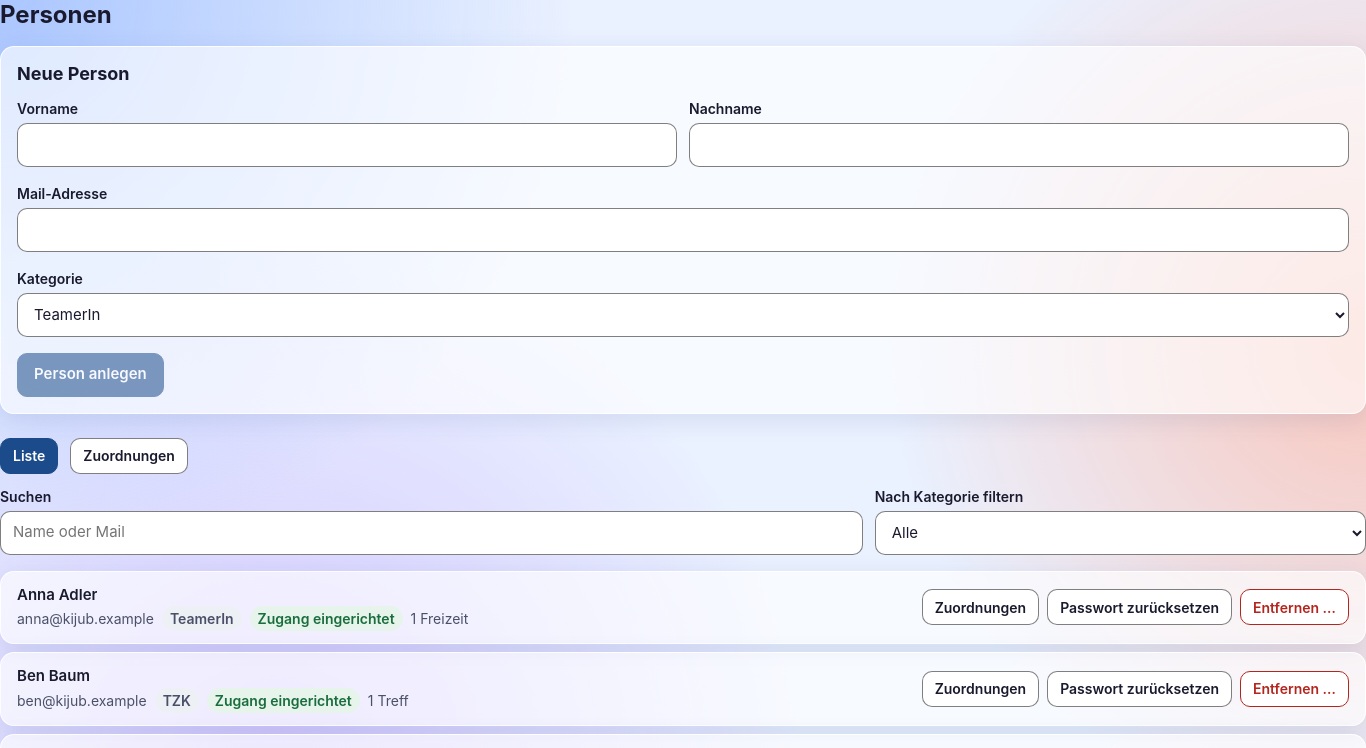
it: Personen: Listenansicht › Kategorie-Filter und Suche
The width and height of the screenshot is (1366, 748).
Expected: the text "Anna Adler" is shown, [17,584,98,606]
Select "TZK" in the dropdown labelled "Nach Kategorie filtern" at (1120, 532), box [875,510,1365,554]
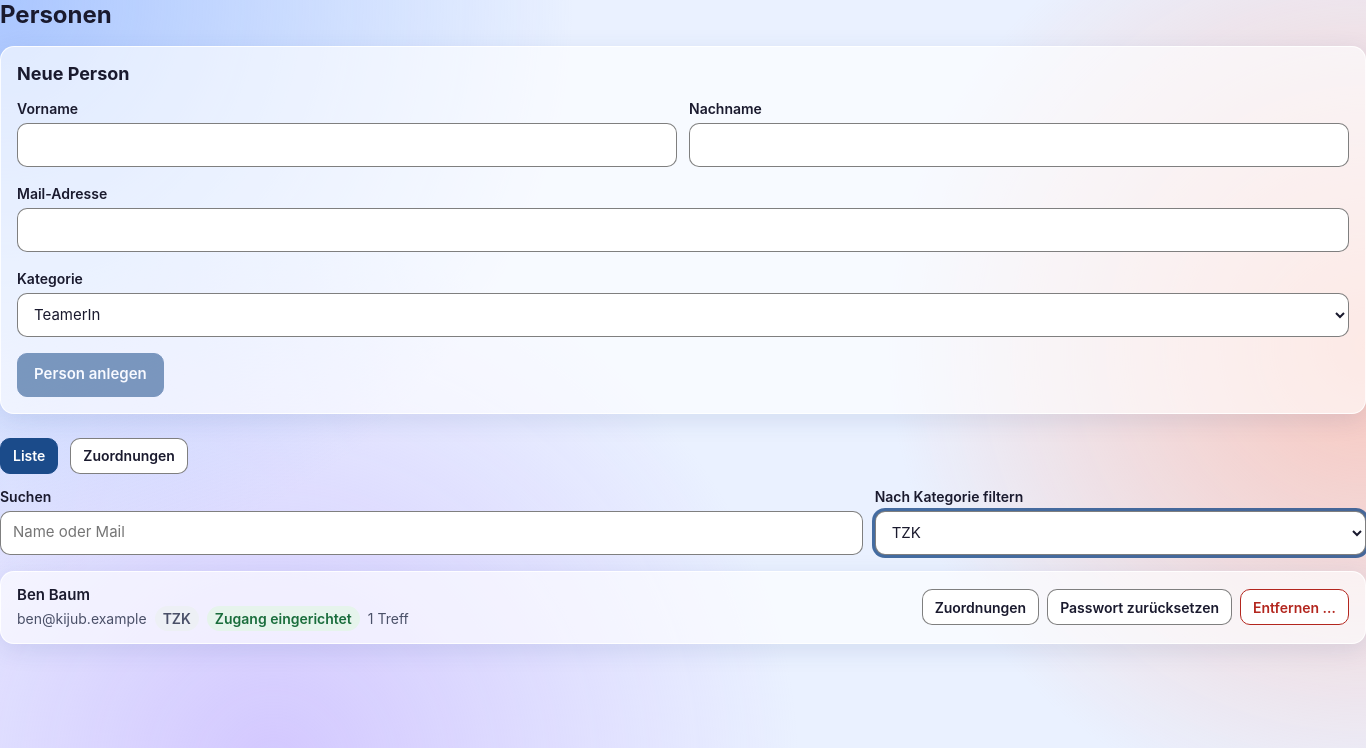
Expected: the text "Ben Baum" is shown, [17,584,90,606]
Now the text "Anna Adler" is gone
Select "Alle" in the dropdown labelled "Nach Kategorie filtern" at (1120, 532), box [875,510,1365,554]
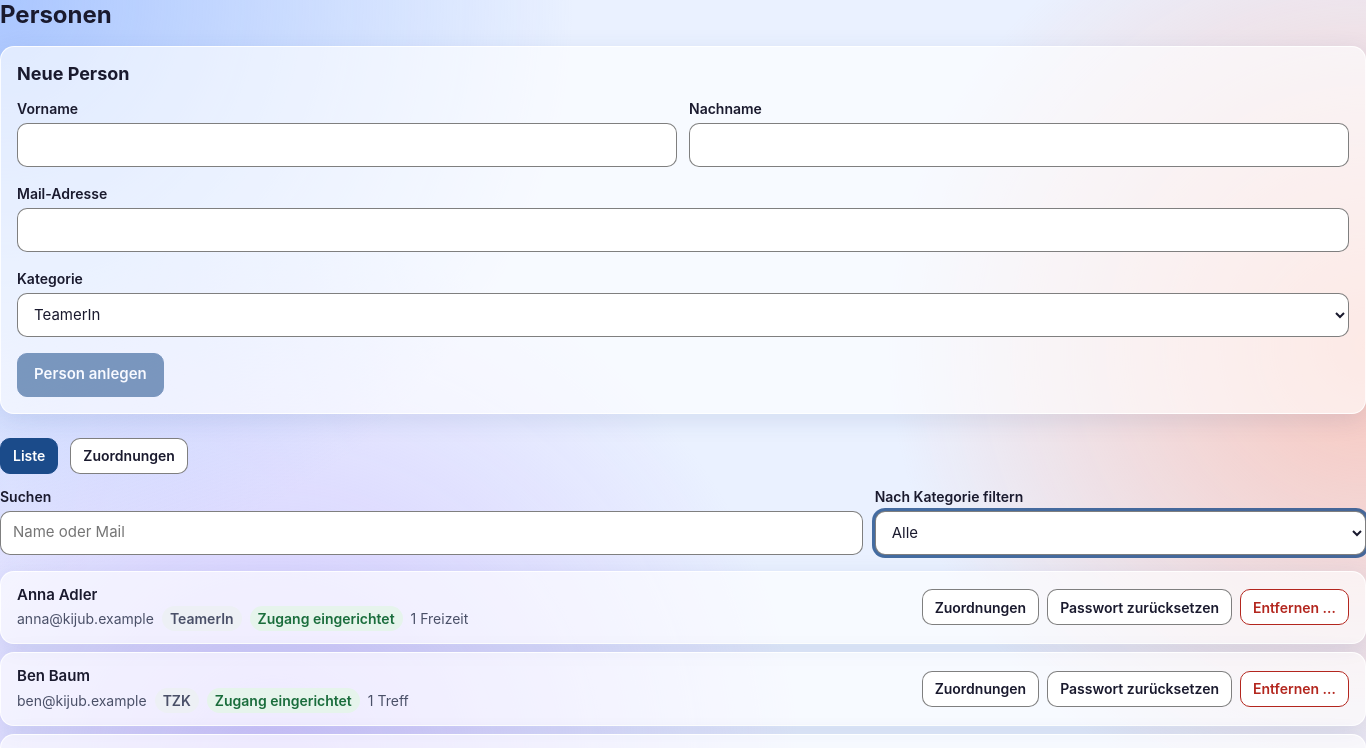
Type "carl" into the search field labelled "Suchen".
click(431, 532); type("carl")  # box [0,510,863,554]
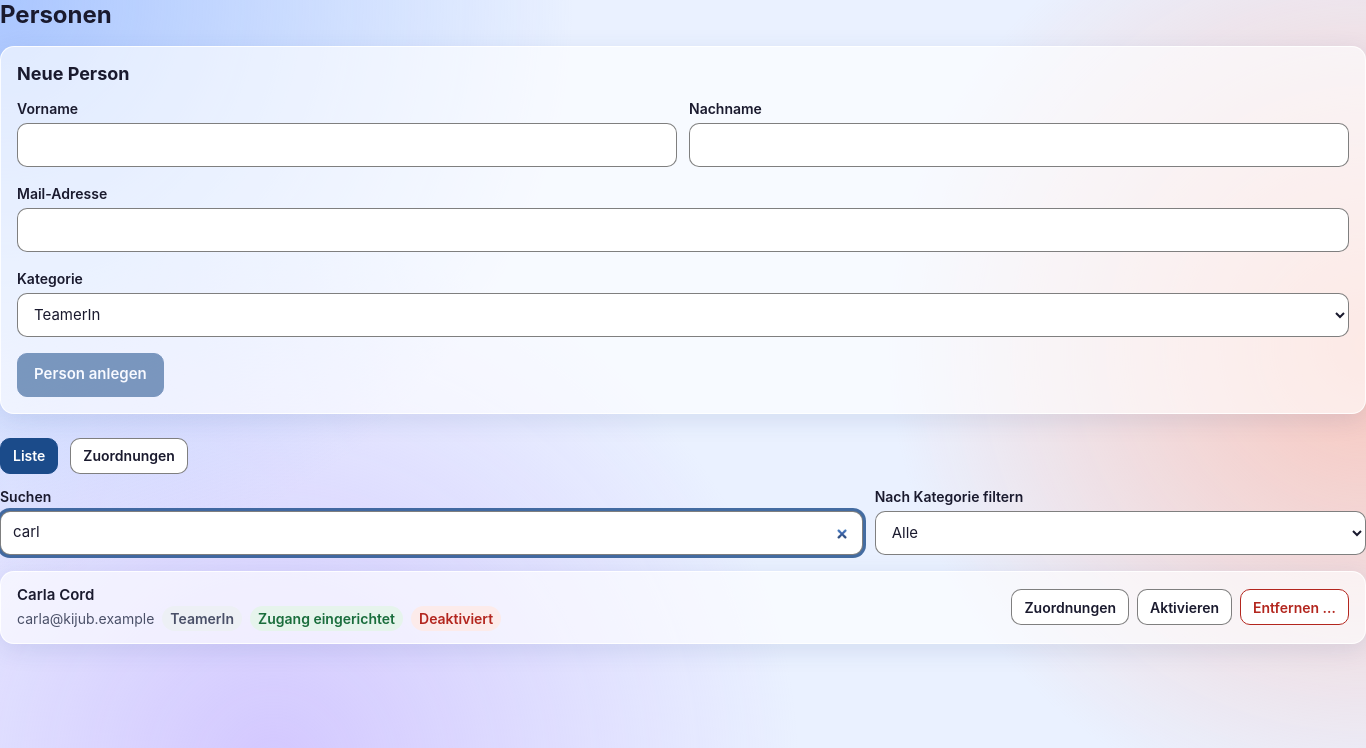
Now the text "Carla Cord" is shown, box [17,584,94,606]
Now the text "Ben Baum" is gone
